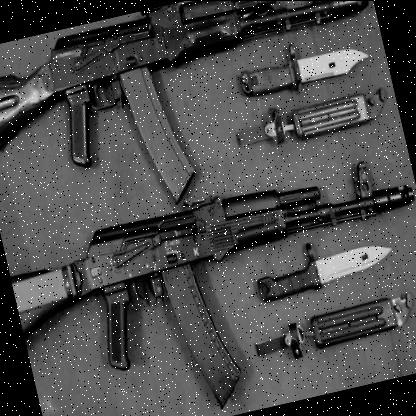rifle: (1, 144, 416, 416), (0, 0, 381, 228)
